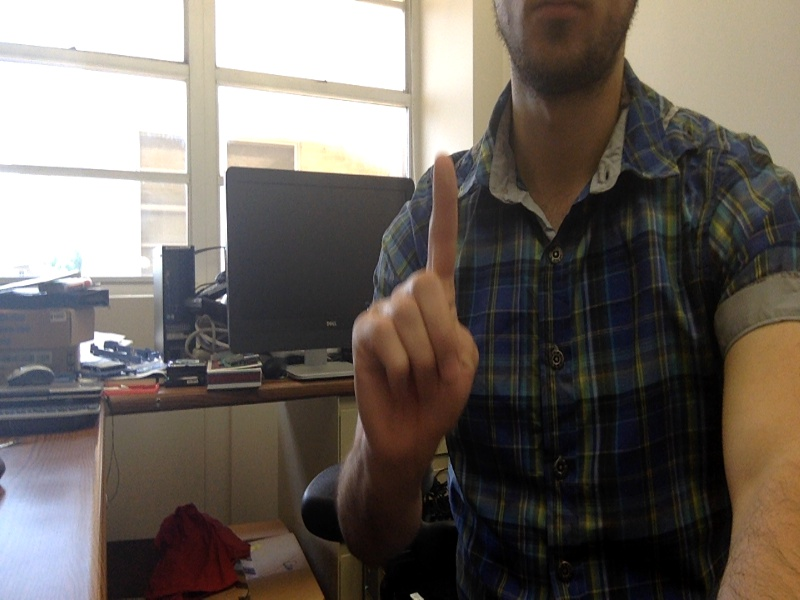1-hand: (347, 155, 483, 470)
